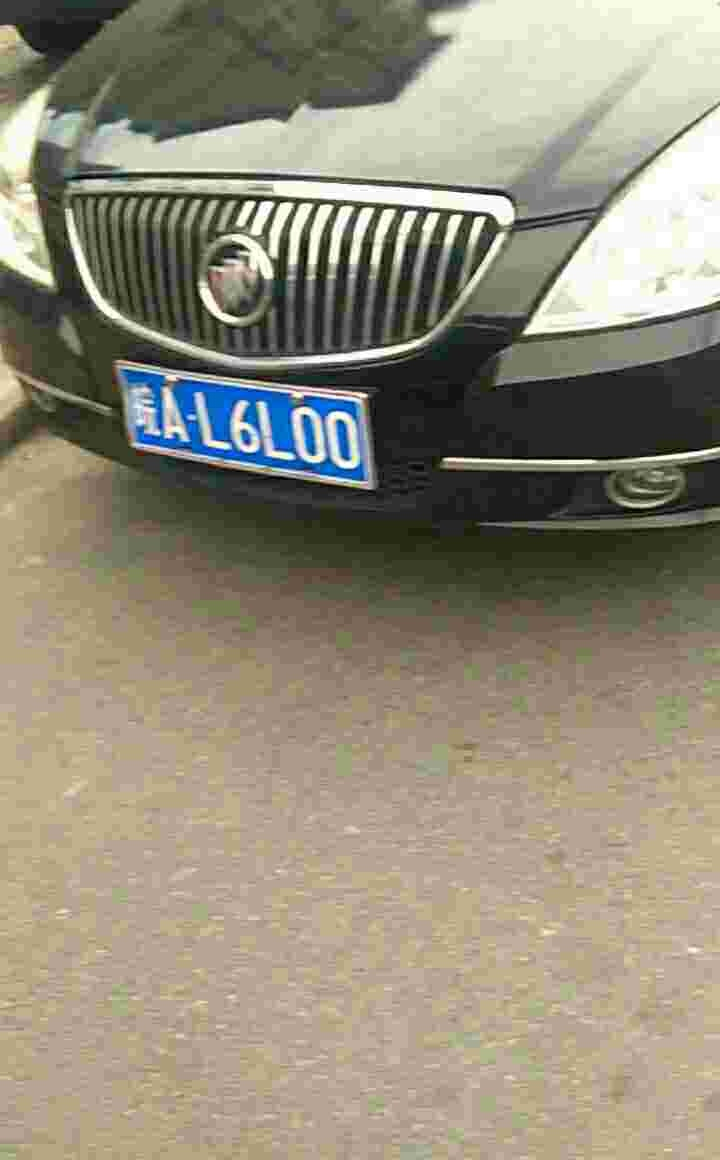license_plate: (119, 373, 378, 471)
